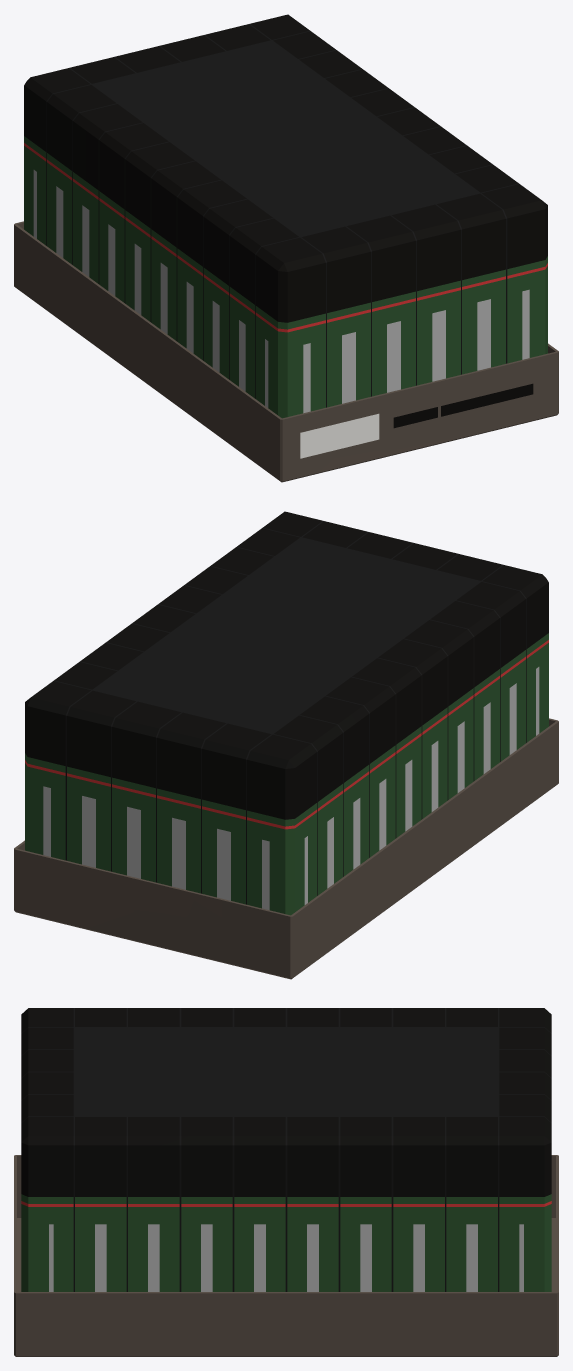
Rendered from SM_SpayCan_Pk_UnSealed_B.fbx.
3 renders of one model, top to bottom at view 1: azimuth 30°, elevation 25°; view 2: azimuth 150°, elevation 25°; view 3: azimuth 270°, elevation 25°, orthographic.
Parts seen in each view (by area): view 1: SM_SpayCan_Pk_UnSealed_B; view 2: SM_SpayCan_Pk_UnSealed_B; view 3: SM_SpayCan_Pk_UnSealed_B.
Boxes of the visible parts, x1,y1,x2,y2 form: SM_SpayCan_Pk_UnSealed_B: (14, 14, 558, 482); SM_SpayCan_Pk_UnSealed_B: (14, 511, 558, 979); SM_SpayCan_Pk_UnSealed_B: (14, 1008, 558, 1356).
Bounding box in the file's own units: 53.95 × 39.36 × 89.8.
